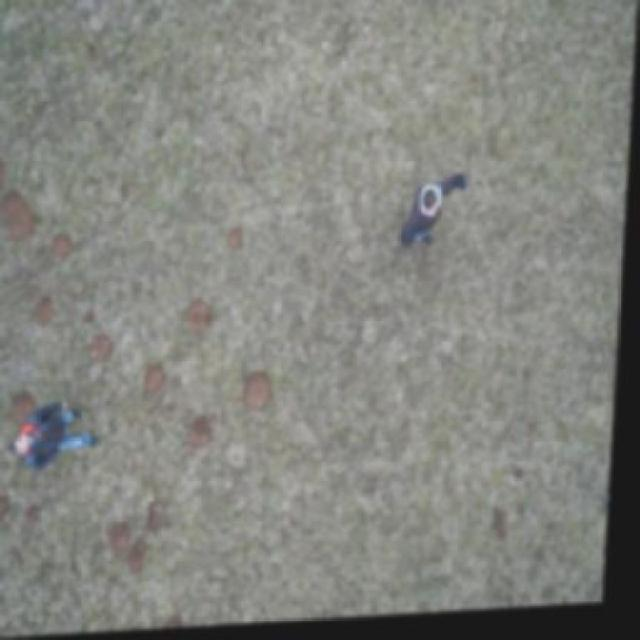Person: (5, 393, 109, 475), (390, 168, 476, 267)
